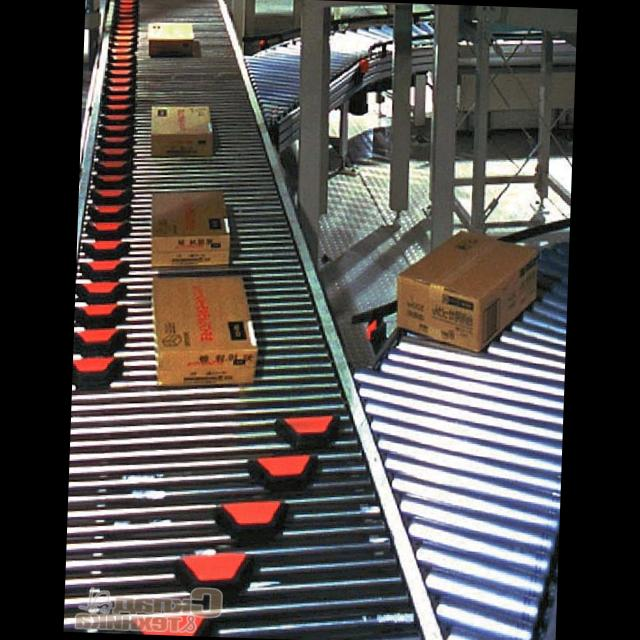box: (392, 228, 536, 349), (147, 270, 255, 390), (146, 185, 234, 270), (147, 104, 214, 160), (145, 19, 194, 58)
